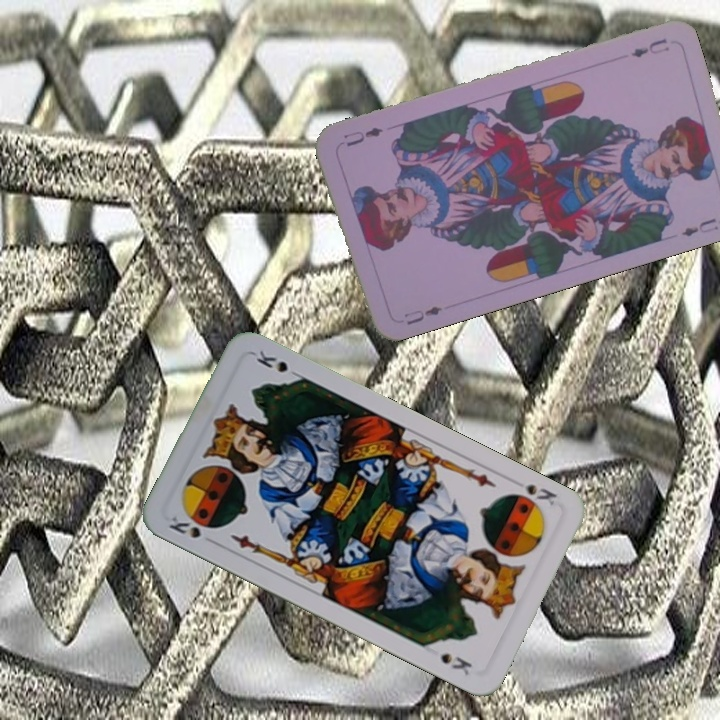EU: (399, 302, 445, 328), (627, 34, 672, 60)
SK: (164, 512, 219, 547), (520, 479, 560, 508)
